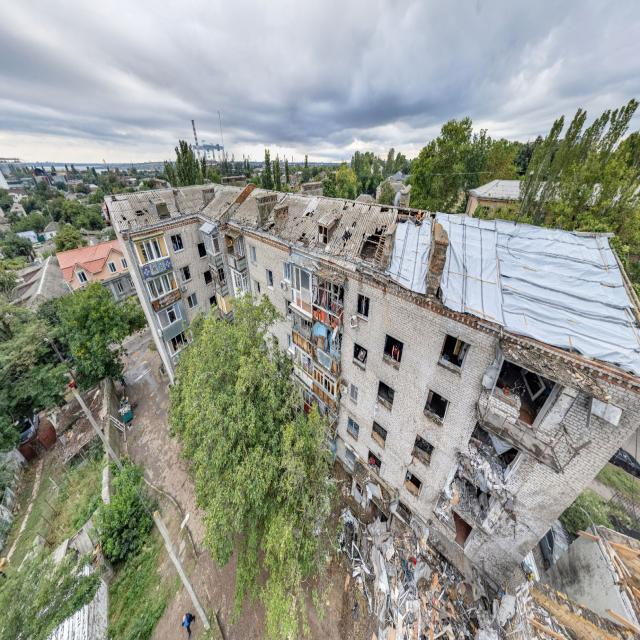broken_window: (438, 332, 470, 373), (423, 388, 449, 426), (382, 334, 403, 368), (376, 379, 394, 412), (404, 470, 422, 498), (371, 420, 387, 449), (352, 342, 368, 369), (356, 293, 370, 321)
building: (102, 176, 640, 603)
